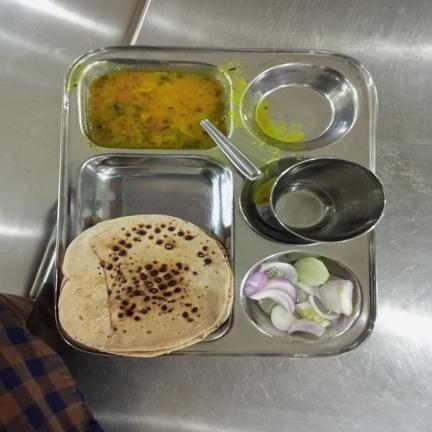Chana Dal: (87, 72, 227, 149)
Plate: (57, 47, 379, 358)
Roti: (57, 214, 235, 357)
Salad: (243, 255, 353, 338)
